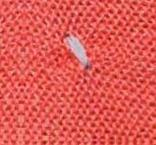hole: (59, 29, 94, 70)
